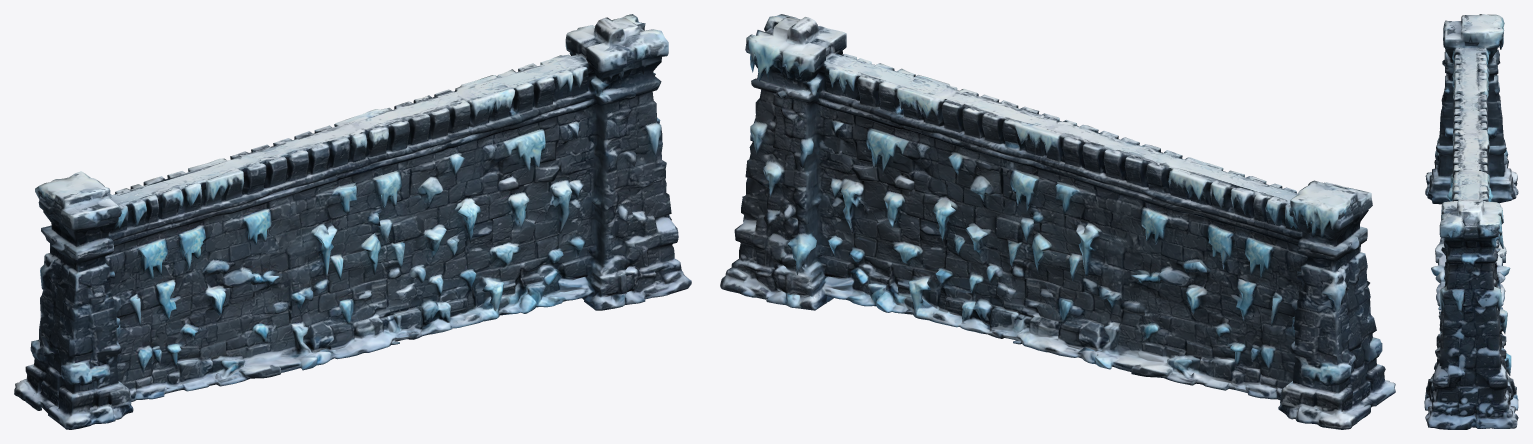
Rendered from fort_arctic_wall.glb.
The picture shows the model from 3 angles, left to right: view 1: azimuth 30°, elevation 25°; view 2: azimuth 150°, elevation 25°; view 3: azimuth 270°, elevation 25°; orthographic projection. The views are drawn at different scales.
Parts seen in each view (by area): view 1: tripo_node_16102264-bdf2-46f8-9930-e894cda0272a; view 2: tripo_node_16102264-bdf2-46f8-9930-e894cda0272a; view 3: tripo_node_16102264-bdf2-46f8-9930-e894cda0272a.
Part boxes in pixels (x1=…): tripo_node_16102264-bdf2-46f8-9930-e894cda0272a: x1=14, y1=14, x2=691, y2=429; tripo_node_16102264-bdf2-46f8-9930-e894cda0272a: x1=720, y1=14, x2=1395, y2=429; tripo_node_16102264-bdf2-46f8-9930-e894cda0272a: x1=1424, y1=14, x2=1518, y2=429.
Size of the model in its own units: 1 by 0.3935 by 0.1615.
1 material, 1 textured.
